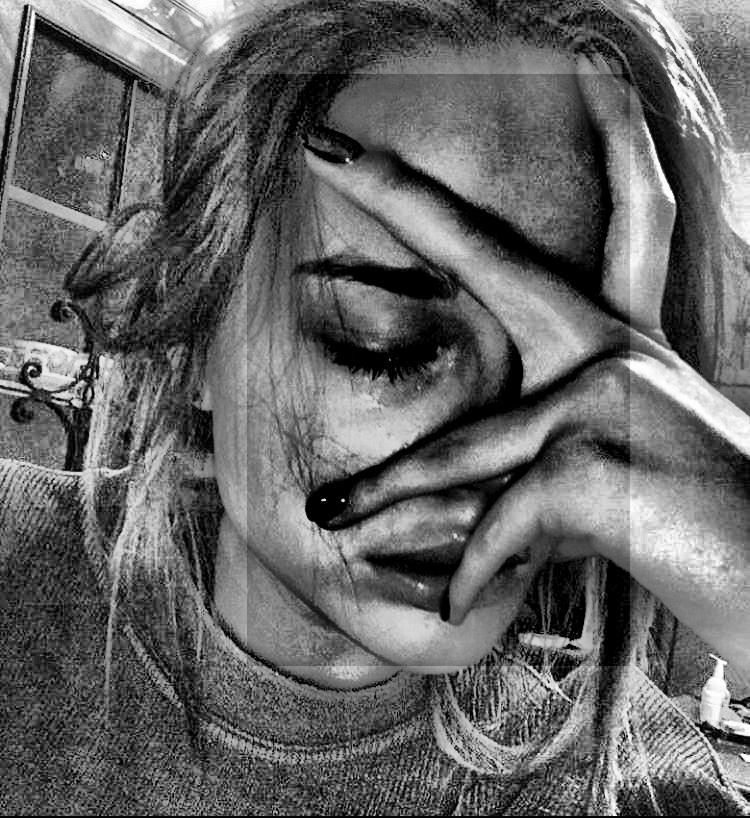sad: (247, 74, 630, 666)
